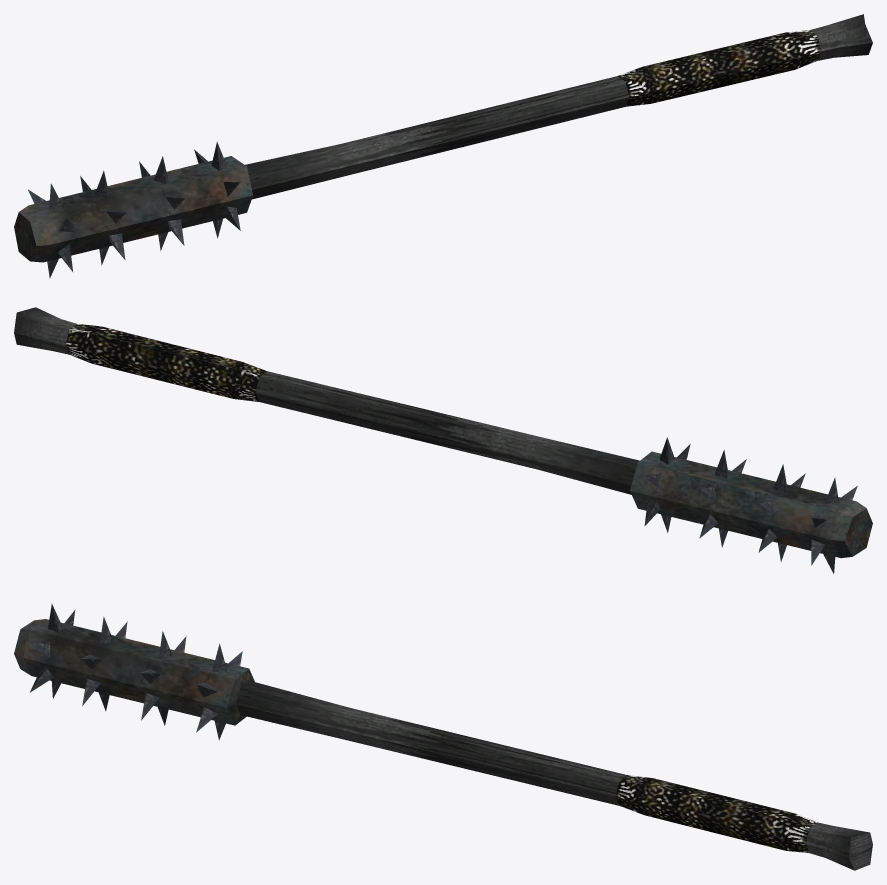
The model's file is KM_ITMW_2H_MACE_01.glb.
3 views of the same model, one above another, from view 1: azimuth 30°, elevation 25°; view 2: azimuth 150°, elevation 25°; view 3: azimuth 330°, elevation 25° (orthographic).
Visible parts, largest first — view 1: KM_ITMW_2H_MACE_01; view 2: KM_ITMW_2H_MACE_01; view 3: KM_ITMW_2H_MACE_01.
Boxes of the visible parts, <box> form: KM_ITMW_2H_MACE_01: <box>14,14,872,278</box>; KM_ITMW_2H_MACE_01: <box>14,307,872,573</box>; KM_ITMW_2H_MACE_01: <box>14,604,872,870</box>.
Size of the model in its own units: 1.33 by 0.1475 by 0.1307.
Materials: 2 (2 with a texture image).
